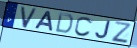A: (33, 10, 54, 33)
C: (73, 16, 94, 38)
D: (54, 12, 74, 35)
J: (94, 21, 112, 40)
V: (20, 6, 38, 30)
Z: (111, 20, 131, 44)
